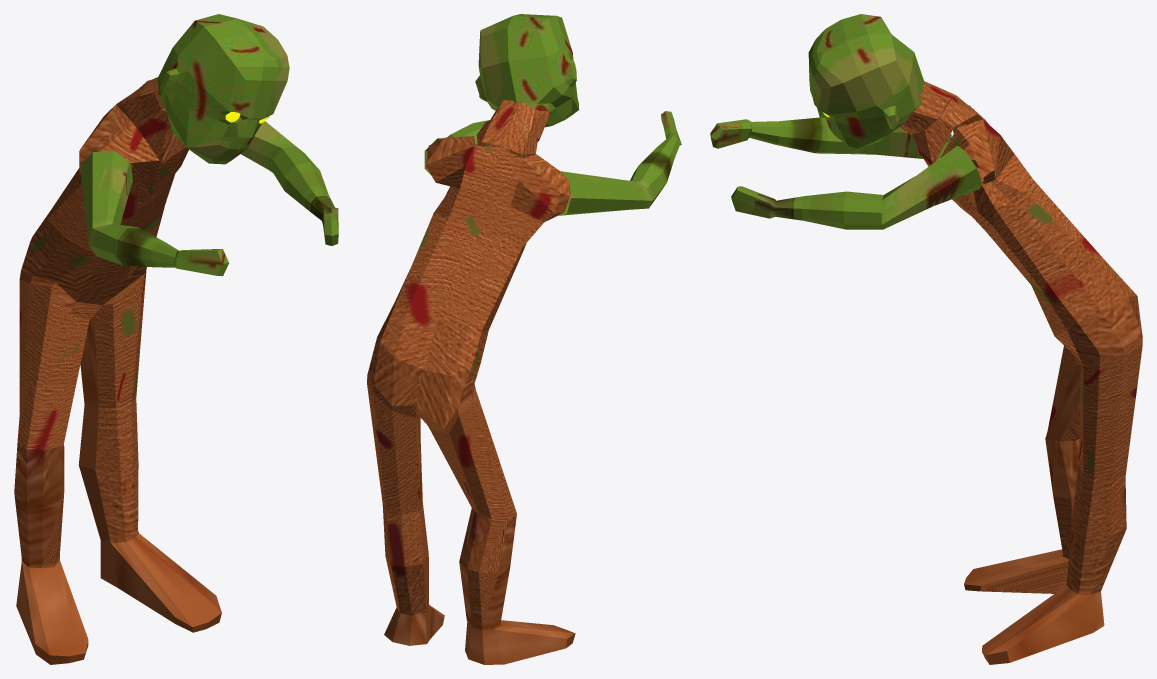
Rendered from Standed_ZombieNoRig.fbx.
3 renders of one model, left to right at view 1: azimuth 30°, elevation 25°; view 2: azimuth 150°, elevation 25°; view 3: azimuth 270°, elevation 25°, orthographic. The views are drawn at different scales.
Parts seen in each view (by area): view 1: zombie; view 2: zombie; view 3: zombie.
Part boxes in pixels (box(x1,y1,x2,y2)): zombie: box(14, 14, 338, 664); zombie: box(367, 14, 681, 664); zombie: box(710, 14, 1142, 664).
Size of the model in its own units: 197 by 544 by 348.
